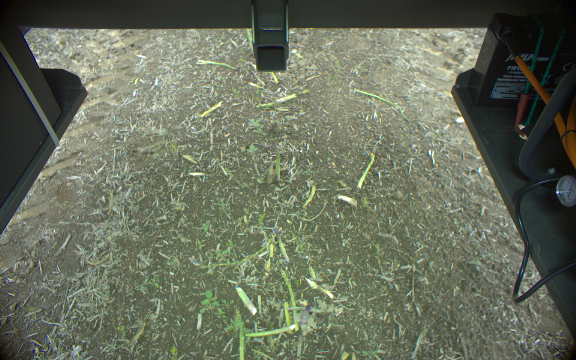aspa: (279, 270, 298, 335), (354, 152, 376, 190), (271, 226, 290, 266), (244, 323, 299, 336), (233, 284, 255, 316), (256, 93, 295, 108), (271, 143, 283, 184), (200, 99, 222, 118), (235, 322, 246, 360), (299, 301, 312, 329), (282, 300, 293, 332), (246, 68, 266, 85)
